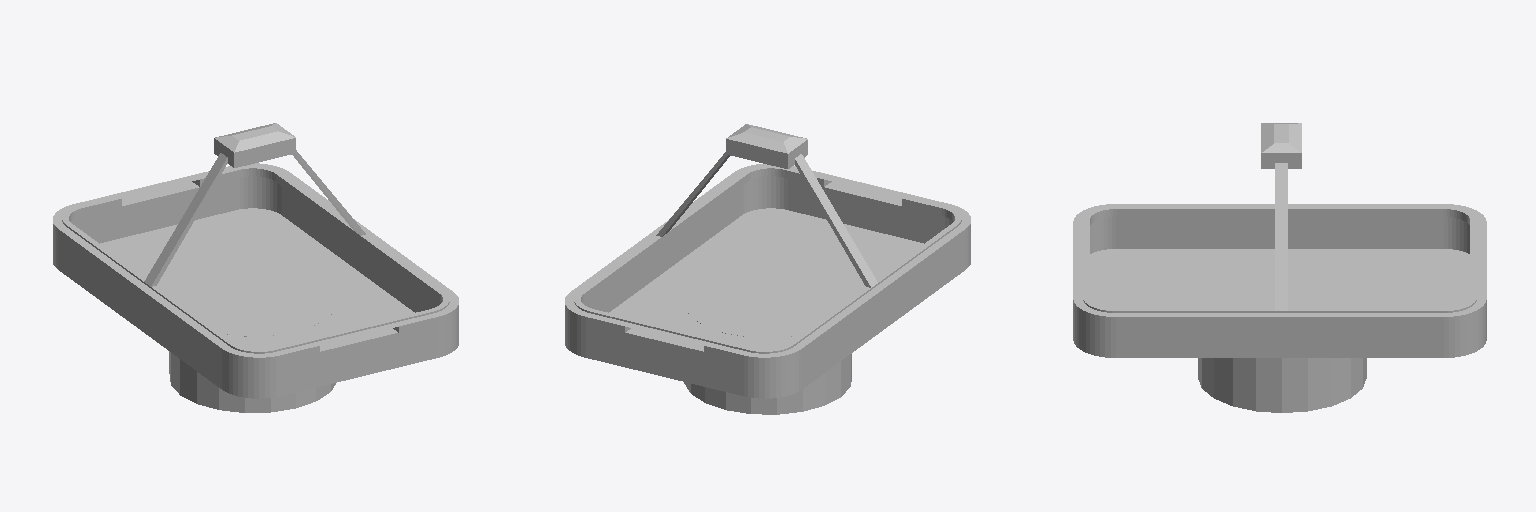
File: Table.obj
The picture shows the model from 3 angles: view 1: azimuth 30°, elevation 25°; view 2: azimuth 150°, elevation 25°; view 3: azimuth 270°, elevation 25°; orthographic projection.
Visible parts, largest first — view 1: table_clean_hiden[number redacted]:Mesh1 table_clean_hiden[number redacted]:Model , pernas; view 2: table_clean_hiden[number redacted]:Mesh1 table_clean_hiden[number redacted]:Model , pernas; view 3: table_clean_hiden[number redacted]:Mesh1 table_clean_hiden[number redacted]:Model , pernas.
Boxes of the visible parts, <box> form: table_clean_hiden[number redacted]:Mesh1 table_clean_hiden[number redacted]:Model : <box>53,123,458,398</box>; pernas: <box>169,265,337,412</box>; table_clean_hiden[number redacted]:Mesh1 table_clean_hiden[number redacted]:Model : <box>565,124,970,398</box>; pernas: <box>684,267,851,414</box>; table_clean_hiden[number redacted]:Mesh1 table_clean_hiden[number redacted]:Model : <box>1073,123,1486,357</box>; pernas: <box>1198,265,1366,412</box>.
Size of the model in its own units: 2.06 by 2.07 by 3.17.